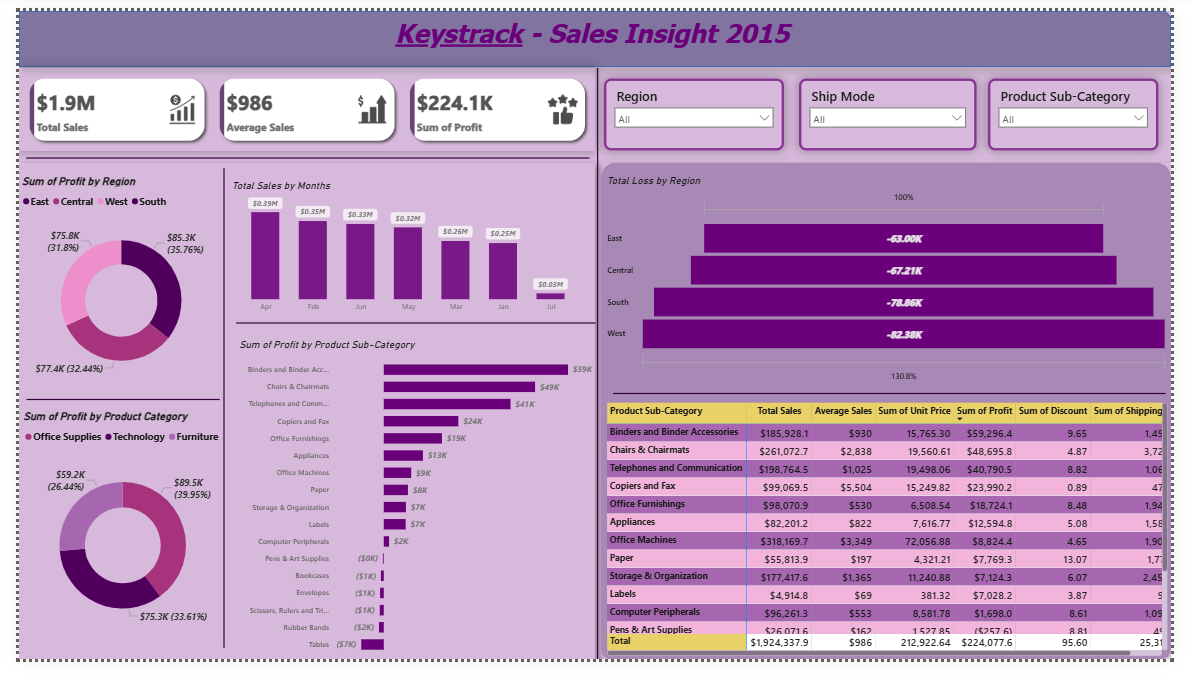

The dashboard page shown, as its layout file describes it:
{"tool":"powerbi","page":{"name":"Page 2","canvas":[1920,1080],"ordinal":0},"visuals":[{"type":"shape","box":[0,0,1920,93.3],"z":0},{"type":"textbox","box":[532,6,858,80],"z":1000},{"type":"shape","box":[0,252,960,828],"z":2000},{"type":"cardVisual","fields":{"Data":["Orders.Total Sales","Orders.Average Sales","Orders.Sum of Profit"]},"box":[0,94,960,138],"z":3000},{"type":"lineStackedColumnComboChart","fields":{"Category":["Orders.Months"],"Y":["Orders.Total Sales"]},"box":[351,279,598,230],"z":4000},{"type":"clusteredBarChart","fields":{"Category":["Orders.Product Sub-Category"],"Y":["Orders.Sum of Profit"]},"box":[362,544,600,536],"z":5000},{"type":"donutChart","fields":{"Y":["Orders.Sum of Profit"],"Category":["Orders.Region"]},"box":[0,272,340,365],"z":6000},{"type":"donutChart","fields":{"Category":["Orders.Product Category"],"Y":["Orders.Sum of Profit"]},"box":[2,666,340,396],"z":7000},{"type":"shape","box":[362,500,598,40],"z":8000},{"type":"shape","box":[12,638,322,20],"z":9000},{"type":"shape","box":[298.3,263.3,88.3,798.3],"z":10000},{"type":"shape","box":[970,252,950,828],"z":11000},{"type":"pivotTable","fields":{"Rows":["Orders.Product Sub-Category"],"Values":["Orders.Total Sales","Orders.Average Sales","Sum(Orders.Unit Price)","Orders.Sum of Profit","Sum(Orders.Discount)","Sum(Orders.Shipping Cost)"]},"box":[976,648,944,432],"z":12000},{"type":"funnel","fields":{"Category":["Orders.Region"],"Y":["Orders.Total Loss"]},"box":[976,272,944,352],"z":13000},{"type":"shape","box":[989,617,921,40],"z":14000},{"type":"slicer","fields":{"Values":["Orders.Region"]},"box":[976,112,300,120],"z":14001},{"type":"slicer","fields":{"Values":["Orders.Ship Mode"]},"box":[1300,112,296,120],"z":14002},{"type":"slicer","fields":{"Values":["Orders.Product Sub-Category"]},"box":[1614,112,284,120],"z":14003},{"type":"shape","box":[920,93.8,88.8,986.2],"z":14004},{"type":"shape","box":[12,224,938,40],"z":14005}]}

Visuals, with their boxes in screenshot pixels (x1, y1, x2, y2), scaled from the page's 1920x1080 canvas onto the 1189x677 screenshot:
shape: box=[0, 0, 1188, 58]
textbox: box=[329, 4, 861, 54]
shape: box=[0, 158, 594, 676]
cardVisual - Orders.Total Sales x Orders.Average Sales: box=[0, 59, 594, 145]
lineStackedColumnComboChart - Orders.Months x Orders.Total Sales: box=[217, 175, 588, 319]
clusteredBarChart - Orders.Product Sub-Category x Orders.Sum of Profit: box=[224, 341, 596, 676]
donutChart - Orders.Sum of Profit x Orders.Region: box=[0, 171, 211, 399]
donutChart - Orders.Product Category x Orders.Sum of Profit: box=[1, 417, 212, 666]
shape: box=[224, 313, 594, 338]
shape: box=[7, 400, 207, 412]
shape: box=[185, 165, 239, 665]
shape: box=[601, 158, 1188, 676]
pivotTable - Orders.Product Sub-Category x Orders.Total Sales: box=[604, 406, 1188, 676]
funnel - Orders.Region x Orders.Total Loss: box=[604, 171, 1188, 391]
shape: box=[612, 387, 1183, 412]
slicer - Orders.Region: box=[604, 70, 790, 145]
slicer - Orders.Ship Mode: box=[805, 70, 988, 145]
slicer - Orders.Product Sub-Category: box=[1000, 70, 1175, 145]
shape: box=[570, 59, 625, 676]
shape: box=[7, 140, 588, 165]
